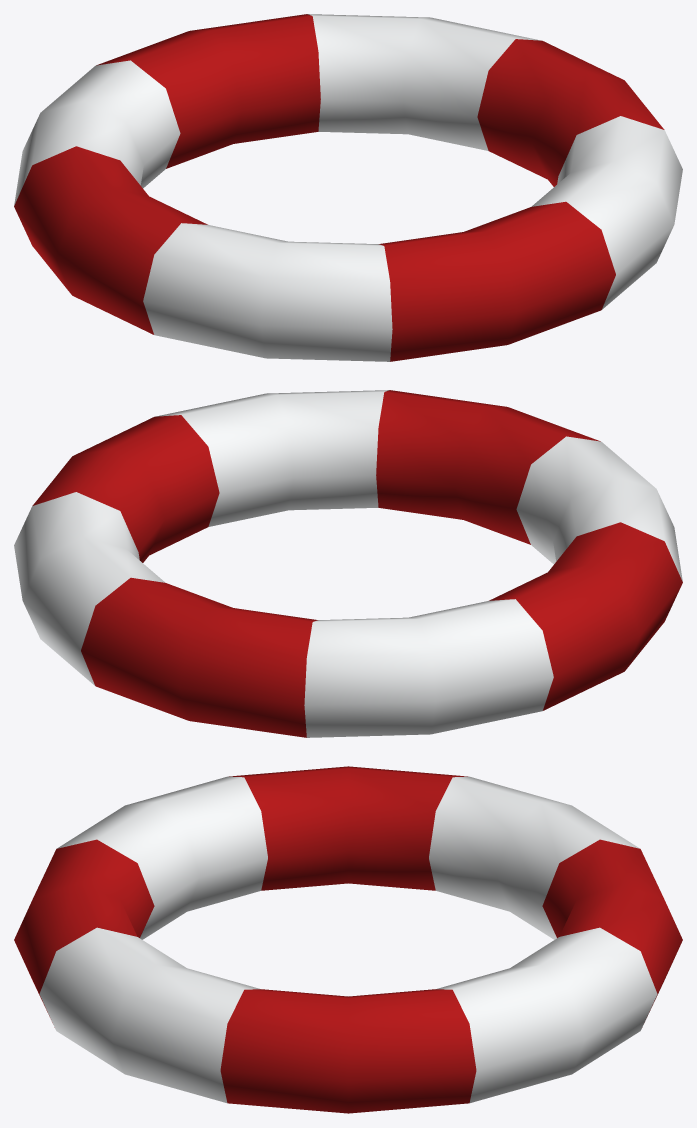
The model's file is M_youyongquan01.FBX.
3 renders of one model, top to bottom at view 1: azimuth 30°, elevation 25°; view 2: azimuth 150°, elevation 25°; view 3: azimuth 270°, elevation 25°, orthographic.
Parts seen in each view (by area): view 1: M_youyongquan01; view 2: M_youyongquan01; view 3: M_youyongquan01.
Part boxes in pixels (x1,y1,x2,y2): M_youyongquan01: [14, 14, 682, 361]; M_youyongquan01: [14, 390, 682, 737]; M_youyongquan01: [14, 766, 682, 1113].
Size of the model in its own units: 1.23 by 0.2282 by 1.23.
